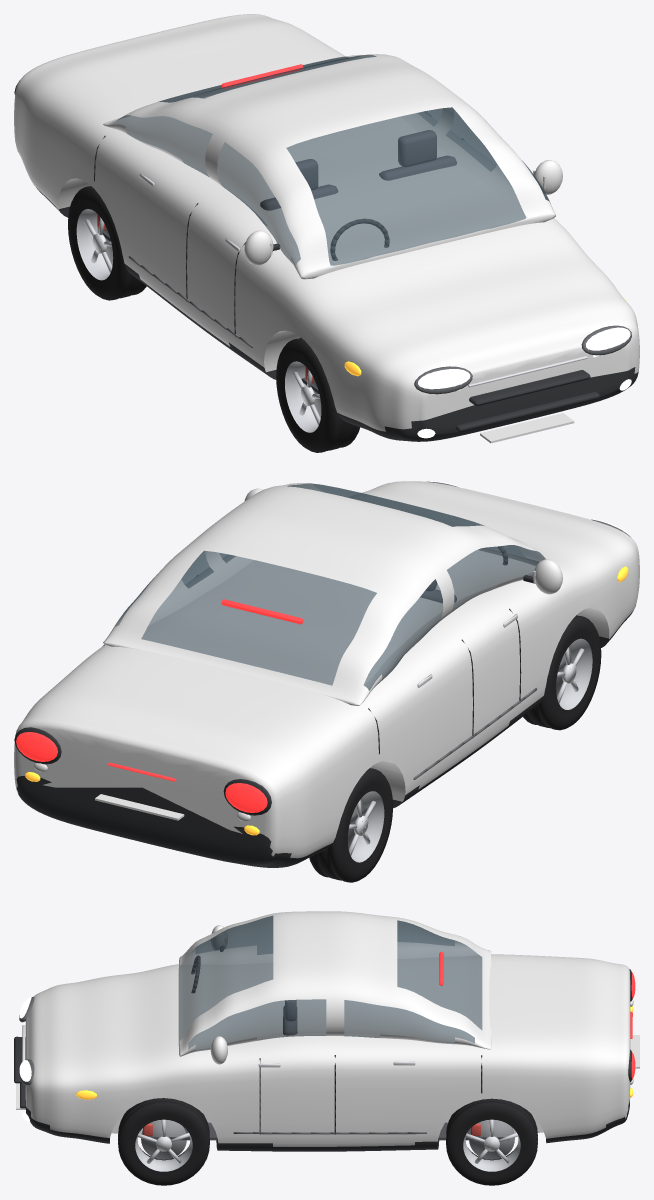
File: voiture-hatch-trafic.glb
3 views of the same model, one above another, from view 1: azimuth 30°, elevation 25°; view 2: azimuth 150°, elevation 25°; view 3: azimuth 270°, elevation 25° (orthographic). The views are drawn at different scales.
Parts seen in each view (by area): view 1: carrosserie, habitacle, roue_av_g_m, roue_ar_g_m, calandre, appuie_tete.001, prise_air, plaque_av, siege_dos.001, phare, retro, retro.001 (+1 smaller); view 2: carrosserie, habitacle, roue_ar_g_m, roue_av_g_m, feu_ar, feu_ar.001, retro, plaque_ar, feu_stop_haut; view 3: carrosserie, habitacle, roue_av_d_m, roue_ar_d_m, jonc.001, plancher, retro.001.
Boxes of the visible parts, x1,y1,x2,y2 form: carrosserie: (14,14,639,441); habitacle: (103,54,555,279); roue_av_g_m: (276,337,359,452); roue_ar_g_m: (68,186,146,300); calandre: (469,370,590,405); appuie_tete.001: (398,130,436,167); prise_air: (456,391,599,431); plaque_av: (480,413,574,443); siege_dos.001: (379,155,456,180); phare: (418,369,470,389); retro: (244,230,273,265); retro.001: (534,160,562,194); carrosserie: (14,481,639,867); habitacle: (103,483,545,705); roue_ar_g_m: (309,768,392,882); roue_av_g_m: (523,615,601,730); feu_ar: (225,783,267,812); feu_ar.001: (16,732,57,761); retro: (534,559,562,594); plaque_ar: (95,794,184,820); feu_stop_haut: (221,599,303,624); carrosserie: (25,954,630,1151); habitacle: (178,911,491,1056); roue_av_d_m: (118,1098,209,1185); roue_ar_d_m: (446,1098,537,1185); jonc.001: (233,1132,426,1134); plancher: (150,1122,509,1140); retro.001: (210,1036,227,1064).
Size of the model in its own units: 1.98 by 1.46 by 4.29.
